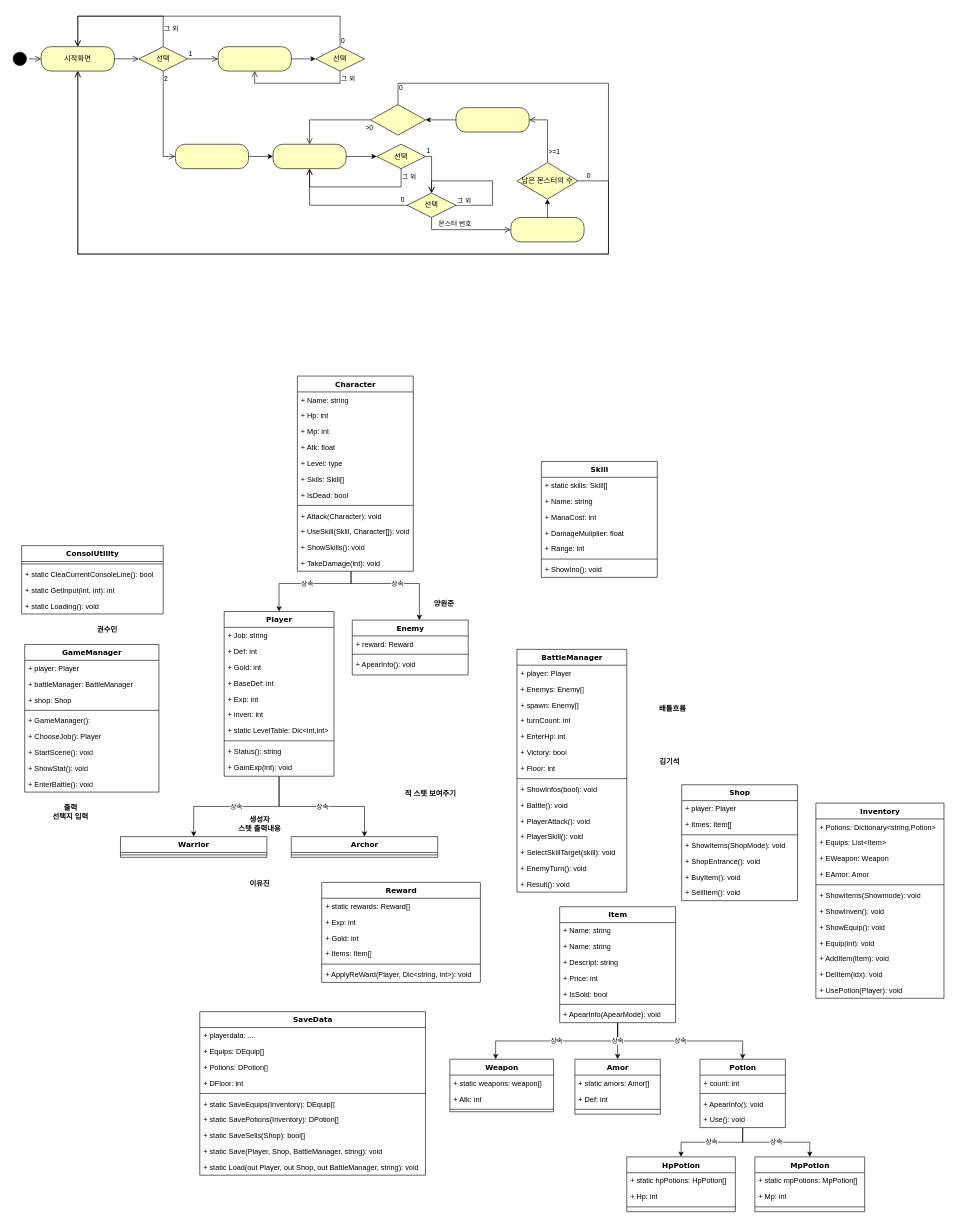
Image size: 955x1222. Some labels were removed from this diagram. Each missing label, with the centre of its shape:
공격: [547,229]
몬스터의 차례: [492,119]
상태보기: [254,58]
전투시작: [212,156]
플레이어의 차례: [309,156]
플레이어의 체력: [397,119]
